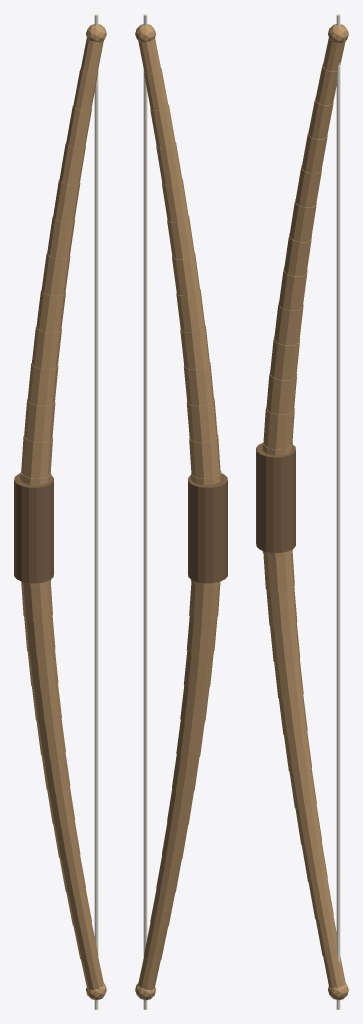
3 views of the same model, side by side, from view 1: azimuth 30°, elevation 25°; view 2: azimuth 150°, elevation 25°; view 3: azimuth 330°, elevation 25° (orthographic).
Parts seen in each view (by area): view 1: bn0, bn2, bn1; view 2: bn0, bn2, bn1; view 3: bn0, bn2, bn1.
Part boxes in pixels (x1,y1,x2,y2): bn0: (20,24,106,1000); bn2: (94,14,98,1009); bn1: (14,473,53,583); bn0: (135,24,221,1000); bn2: (143,14,147,1009); bn1: (188,473,227,583); bn0: (262,24,348,1000); bn2: (336,14,340,1009); bn1: (256,443,295,552).
Bounding box in the file's own units: 0.107 × 1.14 × 0.042.
